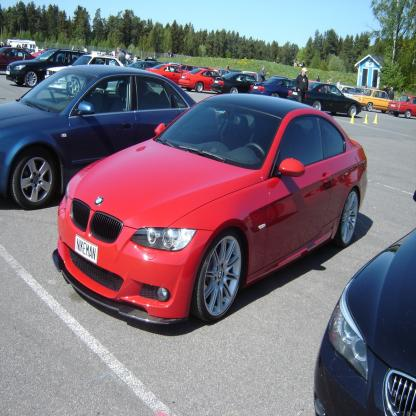Car: (45, 96, 359, 325), (1, 67, 218, 211), (314, 186, 416, 416), (1, 45, 260, 96), (287, 82, 362, 117), (250, 77, 295, 100), (359, 89, 393, 115), (387, 95, 416, 118), (331, 84, 361, 101), (308, 80, 324, 94)
